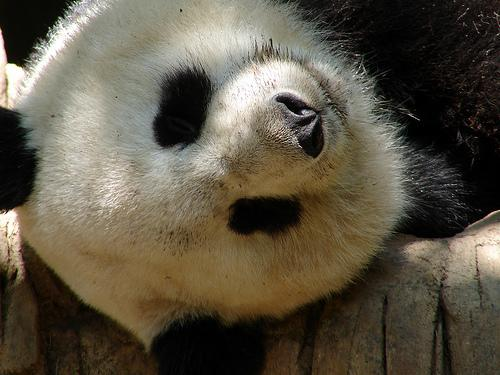panda: (0, 0, 499, 373)
